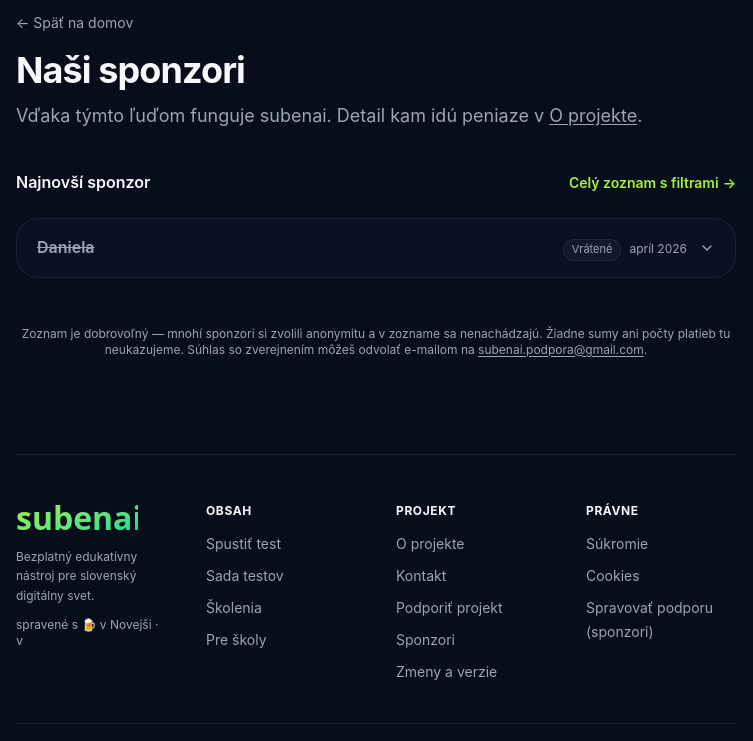
it: SponzoriView (/sponzori) › shows "Vrátené" badge + refund explainer on accordion expand for refunded sponsors
Check: the text "Daniela" is shown, box x1=37 y1=235 x2=95 y2=259
Check: the text with test id "sponzori-refund-badge" reads "Vrátené", box x1=572 y1=242 x2=612 y2=256
Step 1. Click the button "Daniela Vrátené apríl 2026" → (66, 247), box x1=37 y1=219 x2=715 y2=277
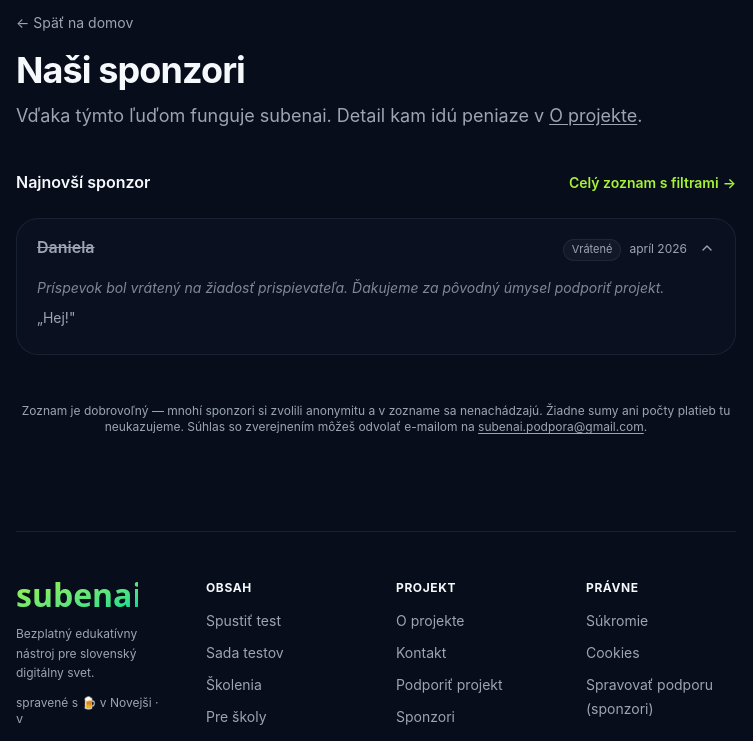
Check: the text "Príspevok bol vrátený na žiadosť prispievateľa" is shown, box x1=37 y1=279 x2=664 y2=296
Check: the text "„Hej!\"" is shown, box x1=37 y1=310 x2=75 y2=326
